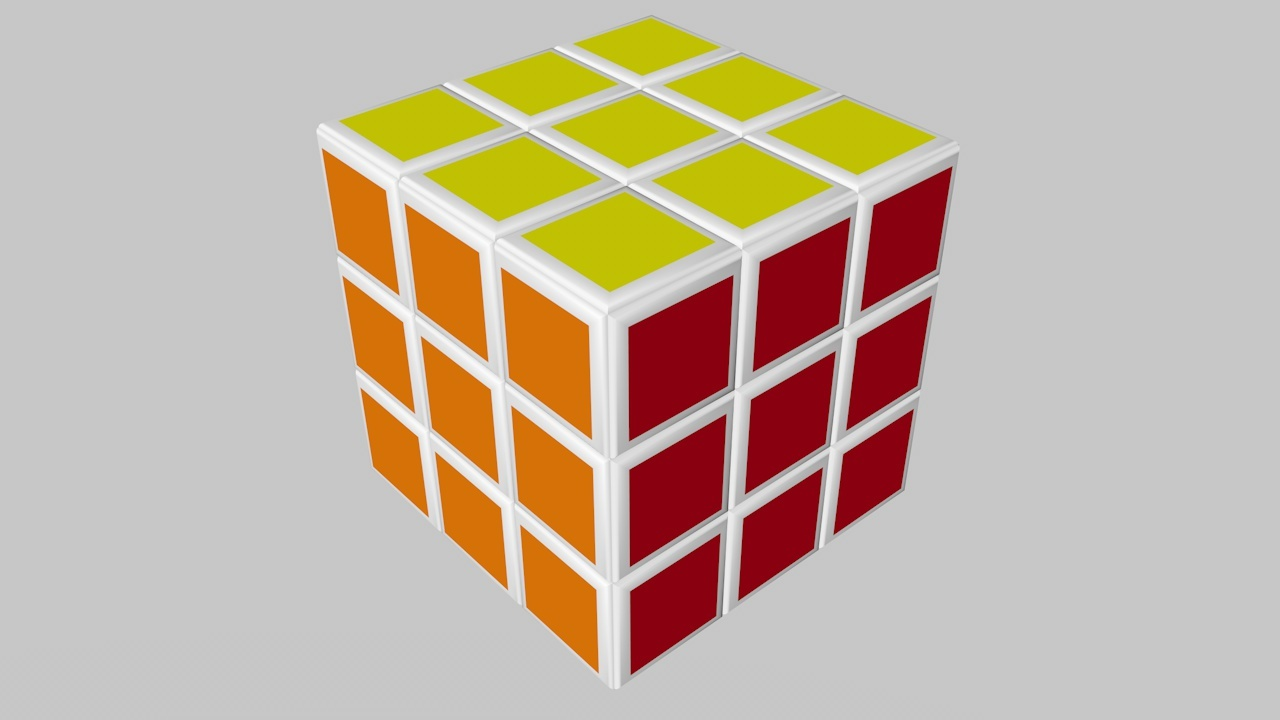cube: (306, 14, 972, 689)
